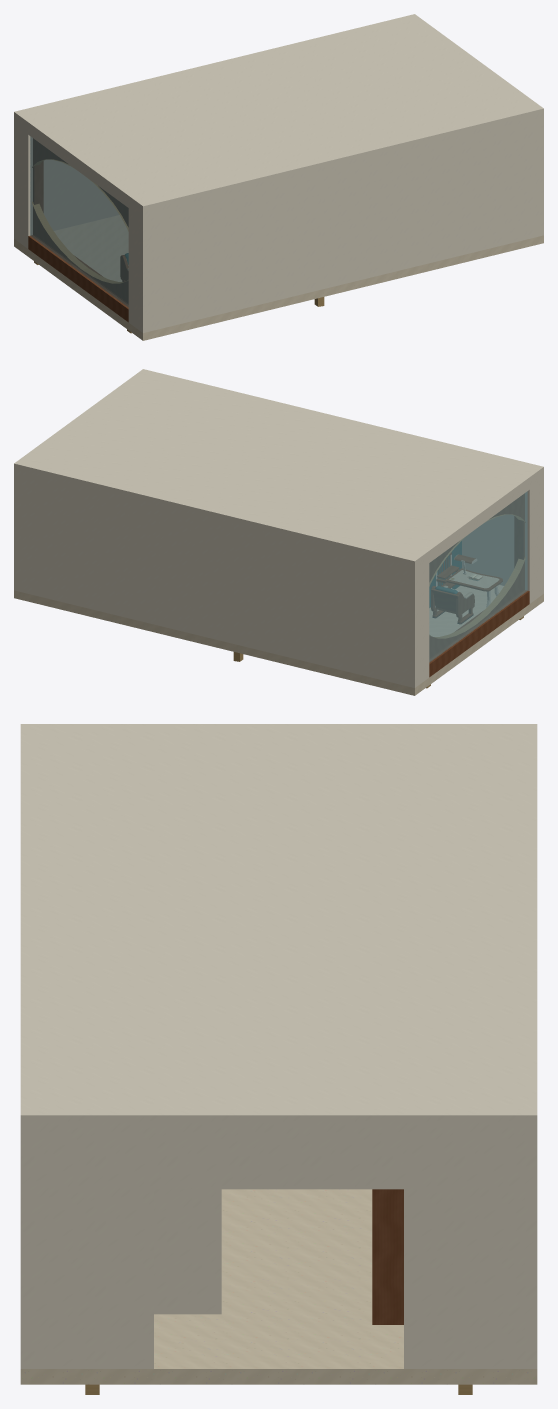
File: QuietGroveBank_541_r001.glb
3 views of the same model, one above another, from view 1: azimuth 30°, elevation 25°; view 2: azimuth 150°, elevation 25°; view 3: azimuth 270°, elevation 25° (orthographic). The views are drawn at different scales.
Visible parts, largest first — view 1: QG541_Ceiling, QG541_SouthSide, QGB541_PrivateCourtGlass, QG541_RoomFloor, QG541_NorthSide, QGB541_CourtSouthPier, QGB541_CourtNorthPier, QGB541_CourtSill, QG541_OvalWindowReveal, QG541_OvalDepthReturn, QGB541_CourtHeader, QGB541_DeepReveal_-293.8; view 2: QG541_Ceiling, QG541_NorthSide, QGB541_PrivateCourtGlass, QG541_RoomFloor, QG541_SouthSide, QGB541_CourtNorthPier, QGB541_CourtSouthPier, QGB541_CourtSill, QG541_OvalWindowReveal, QG541_OvalDepthReturn, QGB541_CourtHeader, QGB541_DeepReveal_-288.2 (+2 smaller); view 3: QG541_Ceiling, QG541_RoomFloor, QG541_EntryShoulderNorth, QG541_EntryShoulderSouth, QG541_EntryHeader, QG541_WashEntrySide, QG541_EntryPrivacyDogleg, QG541_NorthSide, QG541_SouthSide.
Boxes of the visible parts, left/top/right/bottom form: QG541_Ceiling: left=14, top=14, right=543, bottom=211; QG541_SouthSide: left=141, top=114, right=543, bottom=332; QGB541_PrivateCourtGlass: left=30, top=136, right=128, bottom=307; QG541_RoomFloor: left=14, top=215, right=543, bottom=340; QG541_NorthSide: left=14, top=117, right=118, bottom=239; QGB541_CourtSouthPier: left=128, top=201, right=150, bottom=332; QGB541_CourtNorthPier: left=14, top=118, right=32, bottom=248; QGB541_CourtSill: left=28, top=235, right=128, bottom=322; QG541_OvalWindowReveal: left=34, top=139, right=128, bottom=303; QG541_OvalDepthReturn: left=32, top=159, right=128, bottom=283; QGB541_CourtHeader: left=28, top=128, right=128, bottom=207; QGB541_DeepReveal_-293.8: left=33, top=138, right=43, bottom=234; QG541_Ceiling: left=14, top=369, right=543, bottom=566; QG541_NorthSide: left=14, top=469, right=415, bottom=687; QGB541_PrivateCourtGlass: left=429, top=491, right=527, bottom=662; QG541_RoomFloor: left=14, top=585, right=543, bottom=695; QG541_SouthSide: left=462, top=472, right=543, bottom=594; QGB541_CourtNorthPier: left=407, top=556, right=429, bottom=687; QGB541_CourtSouthPier: left=525, top=474, right=541, bottom=603; QGB541_CourtSill: left=429, top=590, right=529, bottom=677; QG541_OvalWindowReveal: left=429, top=494, right=523, bottom=658; QG541_OvalDepthReturn: left=429, top=514, right=525, bottom=638; QGB541_CourtHeader: left=429, top=483, right=529, bottom=562; QGB541_DeepReveal_-288.2: left=514, top=493, right=524, bottom=589; QG541_Ceiling: left=20, top=724, right=537, bottom=1125; QG541_RoomFloor: left=20, top=1189, right=537, bottom=1384; QG541_EntryShoulderNorth: left=404, top=1125, right=528, bottom=1368; QG541_EntryShoulderSouth: left=29, top=1125, right=153, bottom=1368; QG541_EntryHeader: left=150, top=1125, right=407, bottom=1189; QG541_WashEntrySide: left=154, top=1189, right=221, bottom=1314; QG541_EntryPrivacyDogleg: left=372, top=1189, right=403, bottom=1324; QG541_NorthSide: left=528, top=1125, right=537, bottom=1368; QG541_SouthSide: left=20, top=1125, right=29, bottom=1368.
Size of the model in its own units: 12.9 by 4.91 by 7.2.
67 materials, 43 textured.
